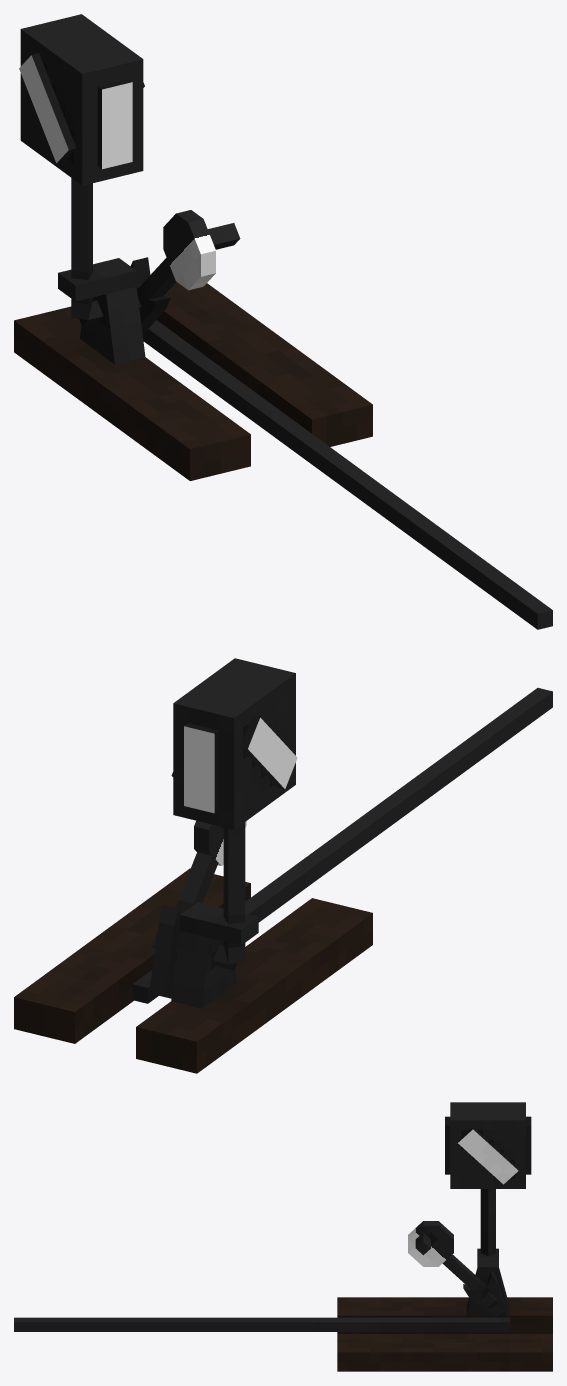
The model's file is switch_on.obj.
3 renders of one model, top to bottom at view 1: azimuth 30°, elevation 25°; view 2: azimuth 150°, elevation 25°; view 3: azimuth 270°, elevation 25°, orthographic. The views are drawn at different scales.
Visible parts, largest first — view 1: base_RAIL_BASE.001; view 2: base_RAIL_BASE.001; view 3: base_RAIL_BASE.001.
Part boxes in pixels (x1,y1,x2,y2): base_RAIL_BASE.001: [14, 14, 552, 629]; base_RAIL_BASE.001: [14, 658, 552, 1073]; base_RAIL_BASE.001: [14, 1102, 552, 1371].
Bounding box in the file's own units: 0.8438 × 1.34 × 3.12.
Materials: 1 (1 with a texture image).
